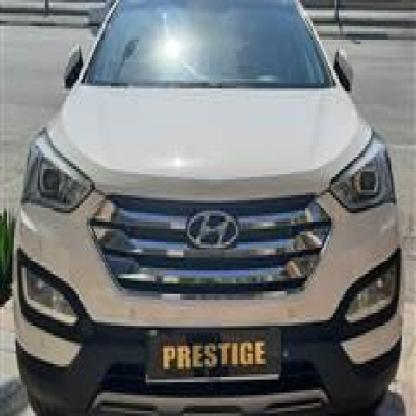Car: (7, 0, 407, 416)
